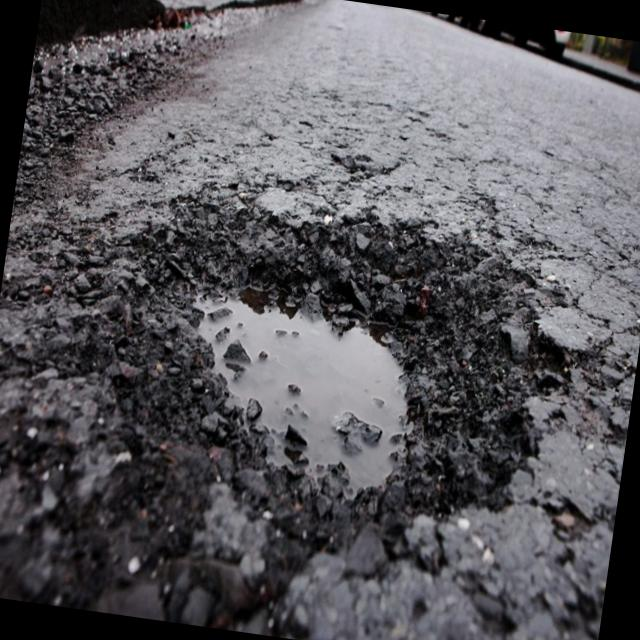Potholes: (107, 179, 609, 640)
